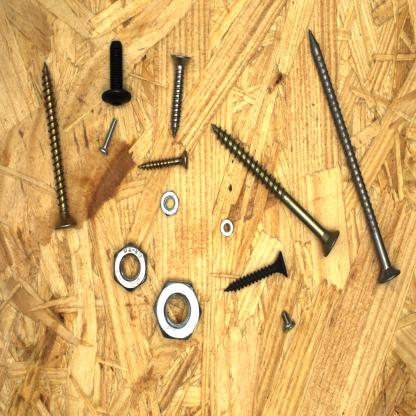screw: (304, 24, 403, 289), (207, 120, 342, 261), (38, 57, 80, 234), (222, 250, 292, 294), (164, 49, 194, 142), (99, 38, 136, 110), (134, 148, 194, 176), (96, 113, 122, 161), (279, 307, 298, 337)
